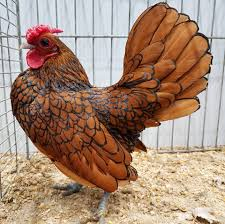Gà/Chicken: (6, 1, 219, 221)
